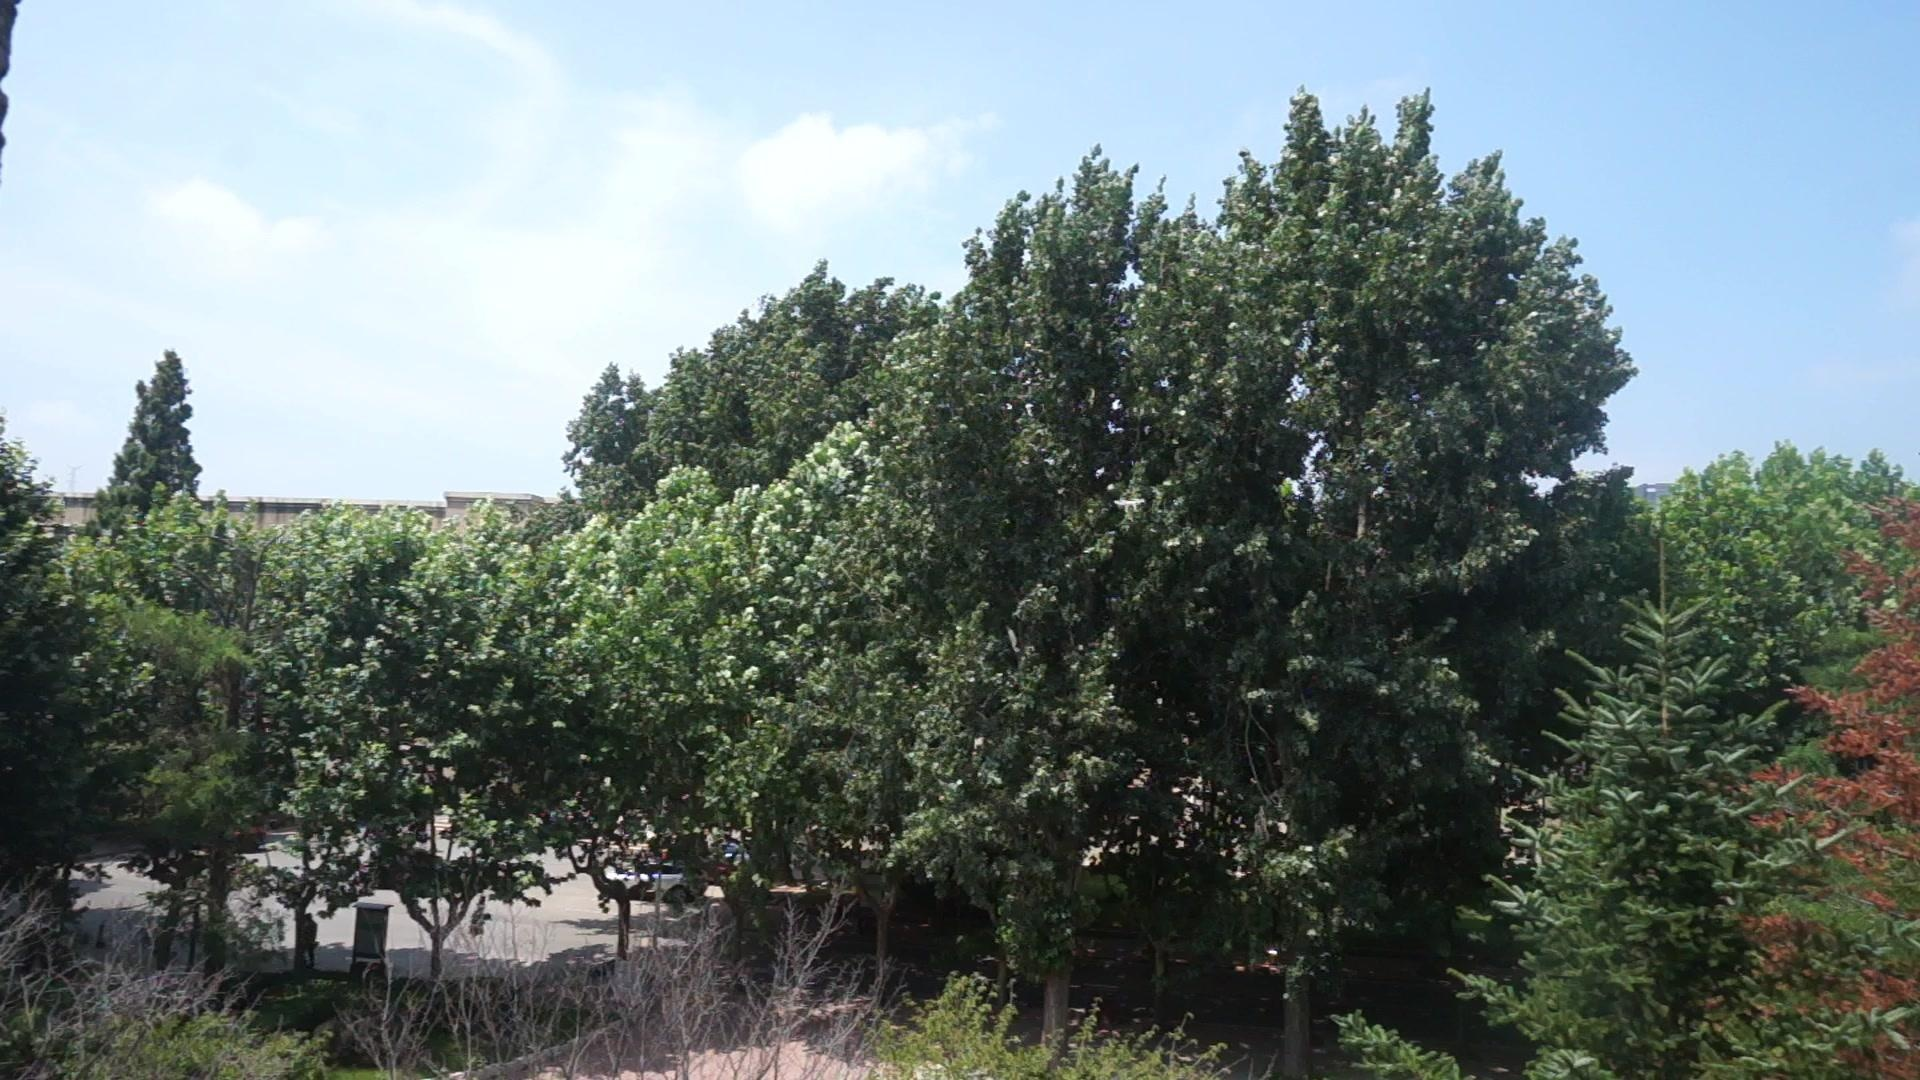UAV: (1114, 498, 1146, 512)
